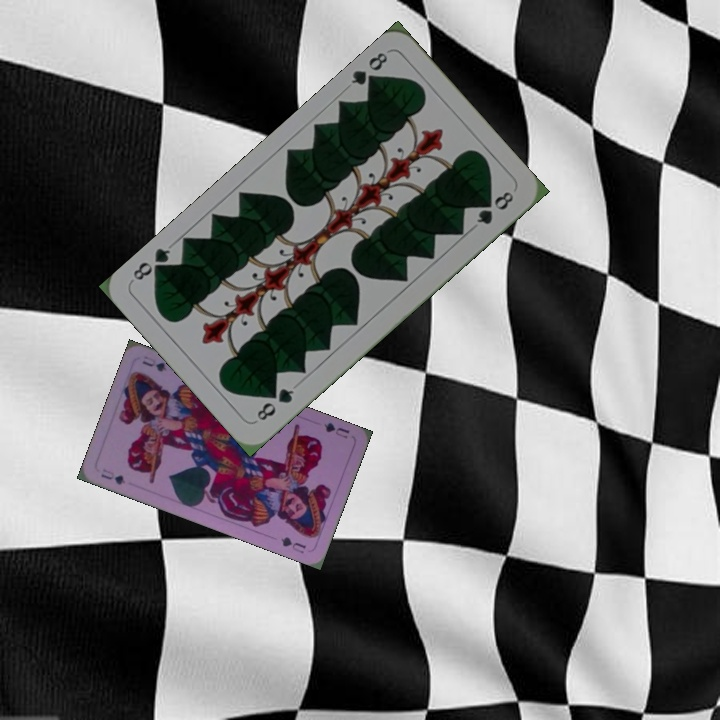G8: (346, 48, 391, 92), (252, 383, 297, 424)
GU: (320, 418, 352, 441), (97, 465, 128, 487)
